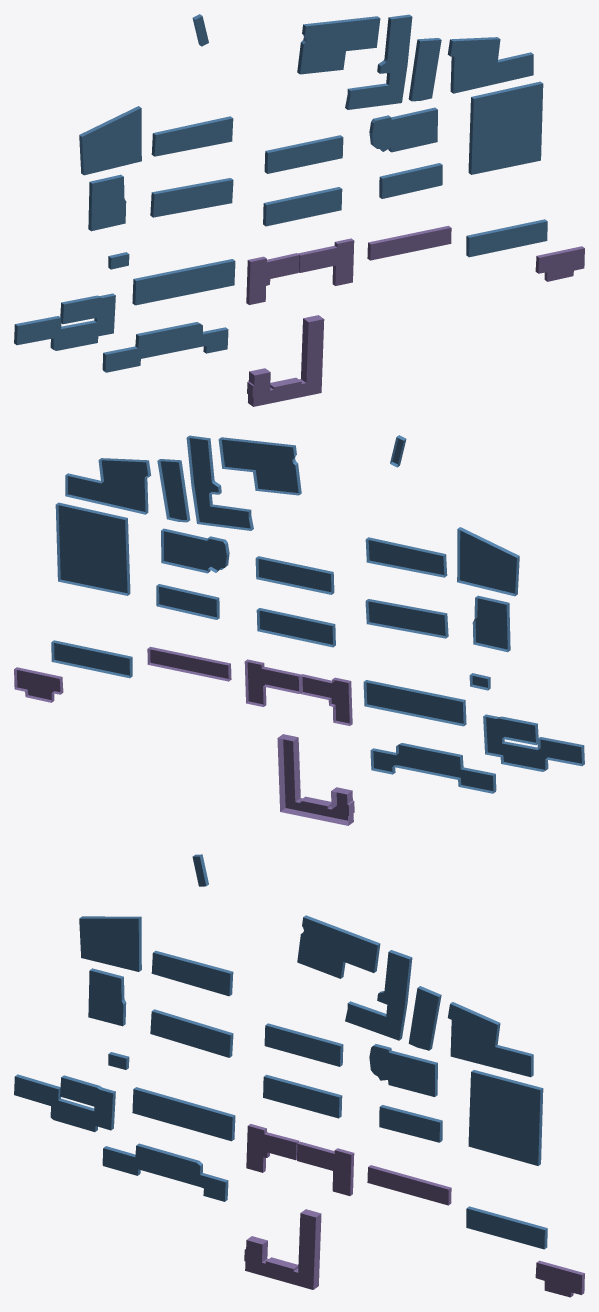
File: buildings_k02.obj
3 views of the same model, one above another, from view 1: azimuth 30°, elevation 25°; view 2: azimuth 150°, elevation 25°; view 3: azimuth 330°, elevation 25° (orthographic).
Visible parts, largest first — view 1: roof4, roof5, zone4, zone5; view 2: roof4, zone4, roof5, zone5; view 3: roof4, roof5, zone4, zone5.
Boxes of the visible parts, x1,y1,x2,y2 form: roof4: [17, 16, 547, 372]; roof5: [249, 228, 584, 406]; zone4: [14, 14, 547, 372]; zone5: [246, 225, 584, 406]; roof4: [54, 438, 581, 791]; zone4: [51, 435, 584, 793]; roof5: [17, 649, 349, 820]; zone5: [14, 646, 354, 825]; roof4: [14, 856, 544, 1249]; roof5: [244, 1126, 581, 1297]; zone4: [15, 854, 547, 1249]; zone5: [245, 1124, 584, 1296].
Size of the model in its own units: 503 by 341 by 8.5.
